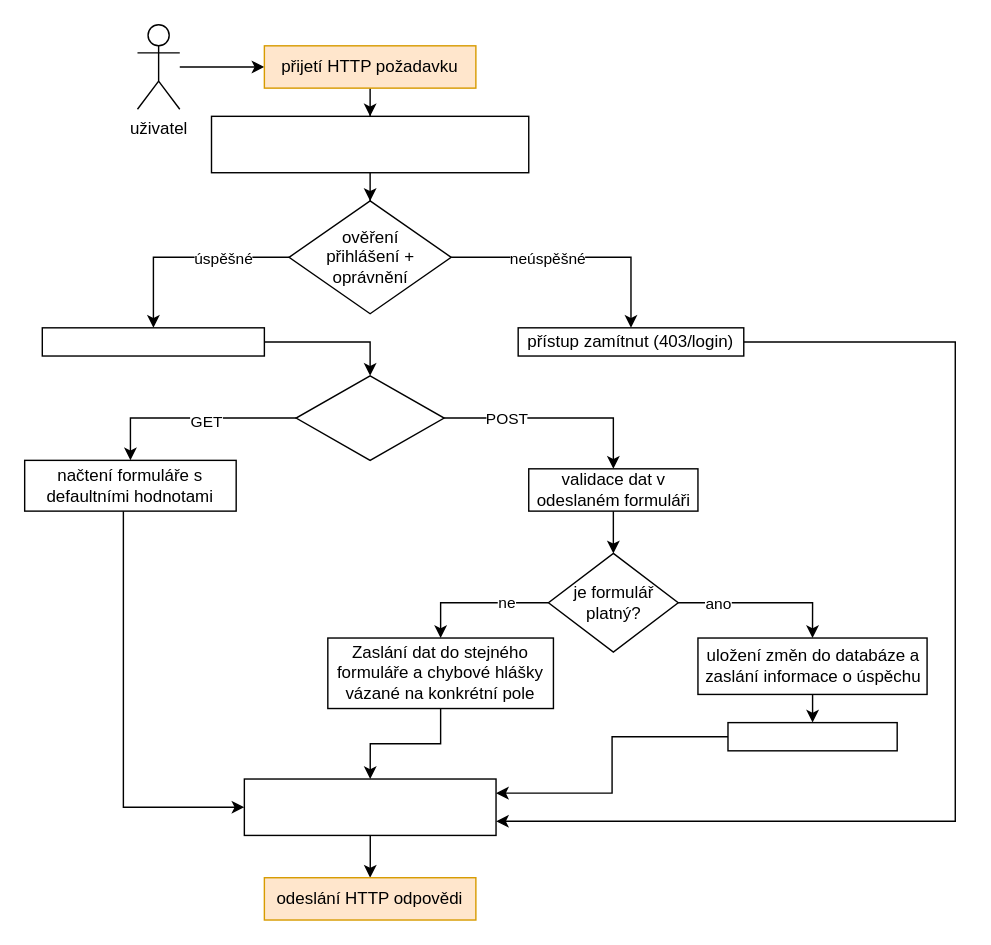
Some shapes in this 991 by 945 pixel diagram are drawn without their labels. Each missing label, with the centre of its shape:
načtení dat z databáze: [152,341]
přesměrování: [812,736]
směrování URL na odpovídající funkci ve views: [369,144]
Typ požadavku?: [369,417]
vykreslení výsledné stránky a zobrazení zprávy v šabloně: [369,806]
